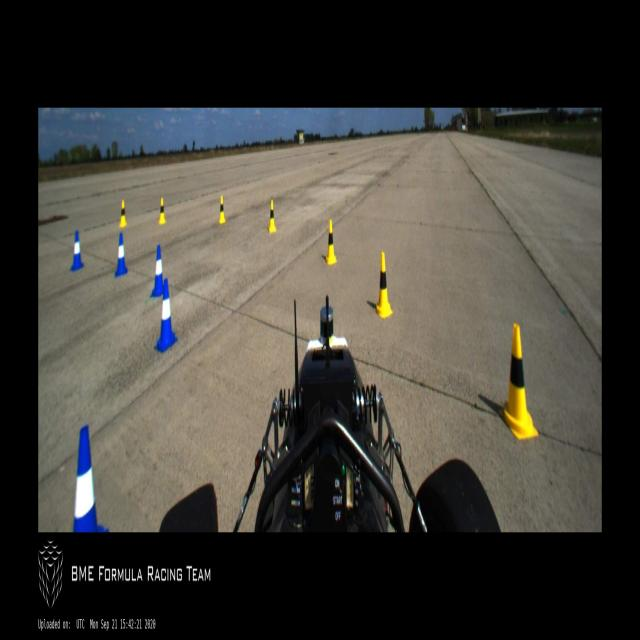blue_cone: (74, 428, 108, 532), (154, 276, 177, 353), (150, 245, 166, 297), (114, 234, 128, 277), (71, 232, 84, 272)
yellow_cone: (499, 324, 537, 439), (374, 252, 393, 317), (326, 219, 336, 264), (268, 200, 276, 231), (119, 200, 127, 228), (158, 198, 166, 224), (219, 196, 225, 224)
